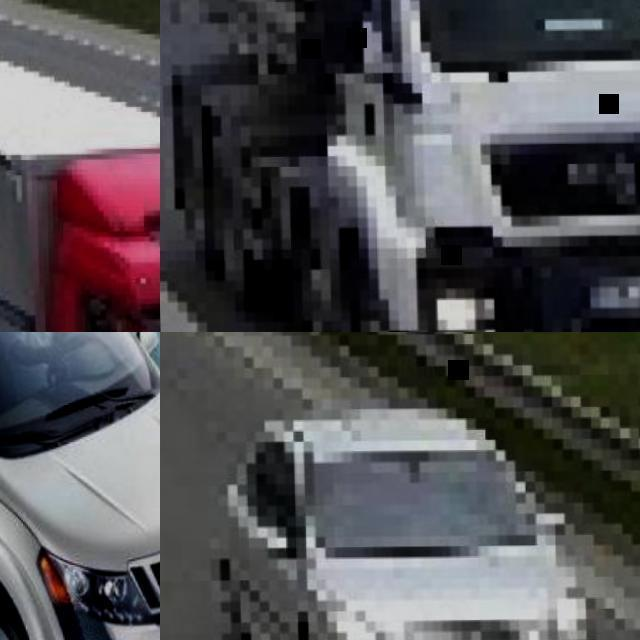car: (213, 402, 580, 639), (1, 327, 160, 637)
